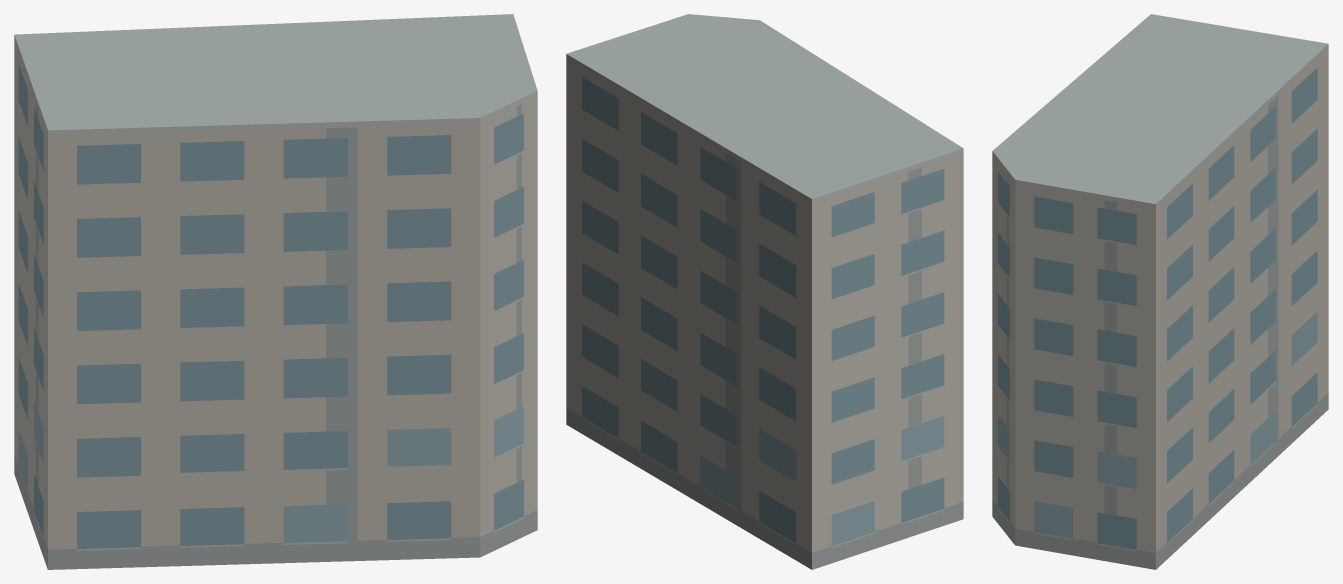
The model's file is survey-upis-32562925.glb.
The picture shows the model from 3 angles, left to right: view 1: azimuth 30°, elevation 25°; view 2: azimuth 150°, elevation 25°; view 3: azimuth 270°, elevation 25°; orthographic projection. The views are drawn at different scales.
Parts seen in each view (by area): view 1: survey-upis-32562925.tmp; view 2: survey-upis-32562925.tmp; view 3: survey-upis-32562925.tmp.
Boxes of the visible parts, x1,y1,x2,y2 form: survey-upis-32562925.tmp: (14,14,537,569); survey-upis-32562925.tmp: (566,14,963,569); survey-upis-32562925.tmp: (992,14,1328,569).
Size of the model in its own units: 20.41 by 18.3 by 15.25.
